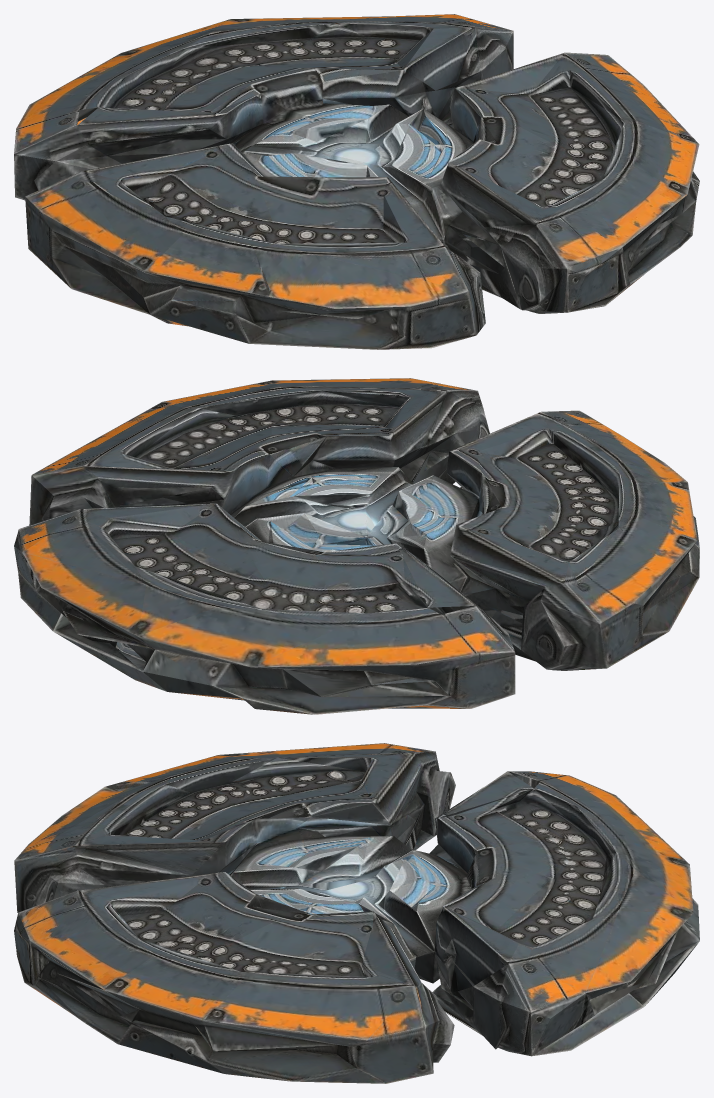
Rendered from emitter.glb.
3 renders of one model, top to bottom at view 1: azimuth 30°, elevation 25°; view 2: azimuth 150°, elevation 25°; view 3: azimuth 270°, elevation 25°, orthographic.
Visible parts, largest first — view 1: Mesh_0; view 2: Mesh_0; view 3: Mesh_0.
Part boxes in pixels (x1=…): Mesh_0: x1=14, y1=14, x2=699, y2=349; Mesh_0: x1=14, y1=378, x2=699, y2=714; Mesh_0: x1=14, y1=743, x2=699, y2=1083.
Bounding box in the file's own units: 0.3195 × 0.0574 × 0.32.
Materials: 1 (1 with a texture image).
